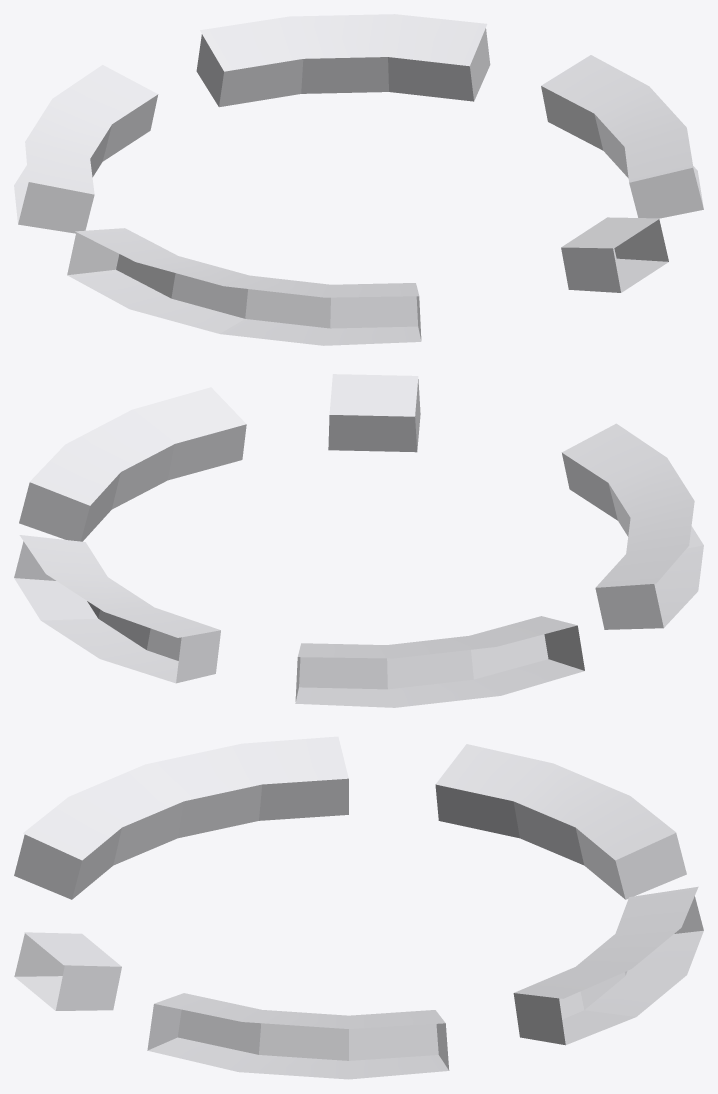
File: PecPar.obj
The picture shows the model from 3 angles, top to bottom: view 1: azimuth 30°, elevation 25°; view 2: azimuth 150°, elevation 25°; view 3: azimuth 270°, elevation 25°; orthographic projection. The views are drawn at different scales.
Parts seen in each view (by area): view 1: polySurface2; view 2: polySurface2; view 3: polySurface2.
Part boxes in pixels (x1,y1,x2,y2): polySurface2: [14, 14, 703, 345]; polySurface2: [14, 374, 703, 707]; polySurface2: [14, 736, 703, 1079].
Size of the model in its own units: 6.44 by 0.557 by 6.23.
Materials: 1 (1 with a texture image).
